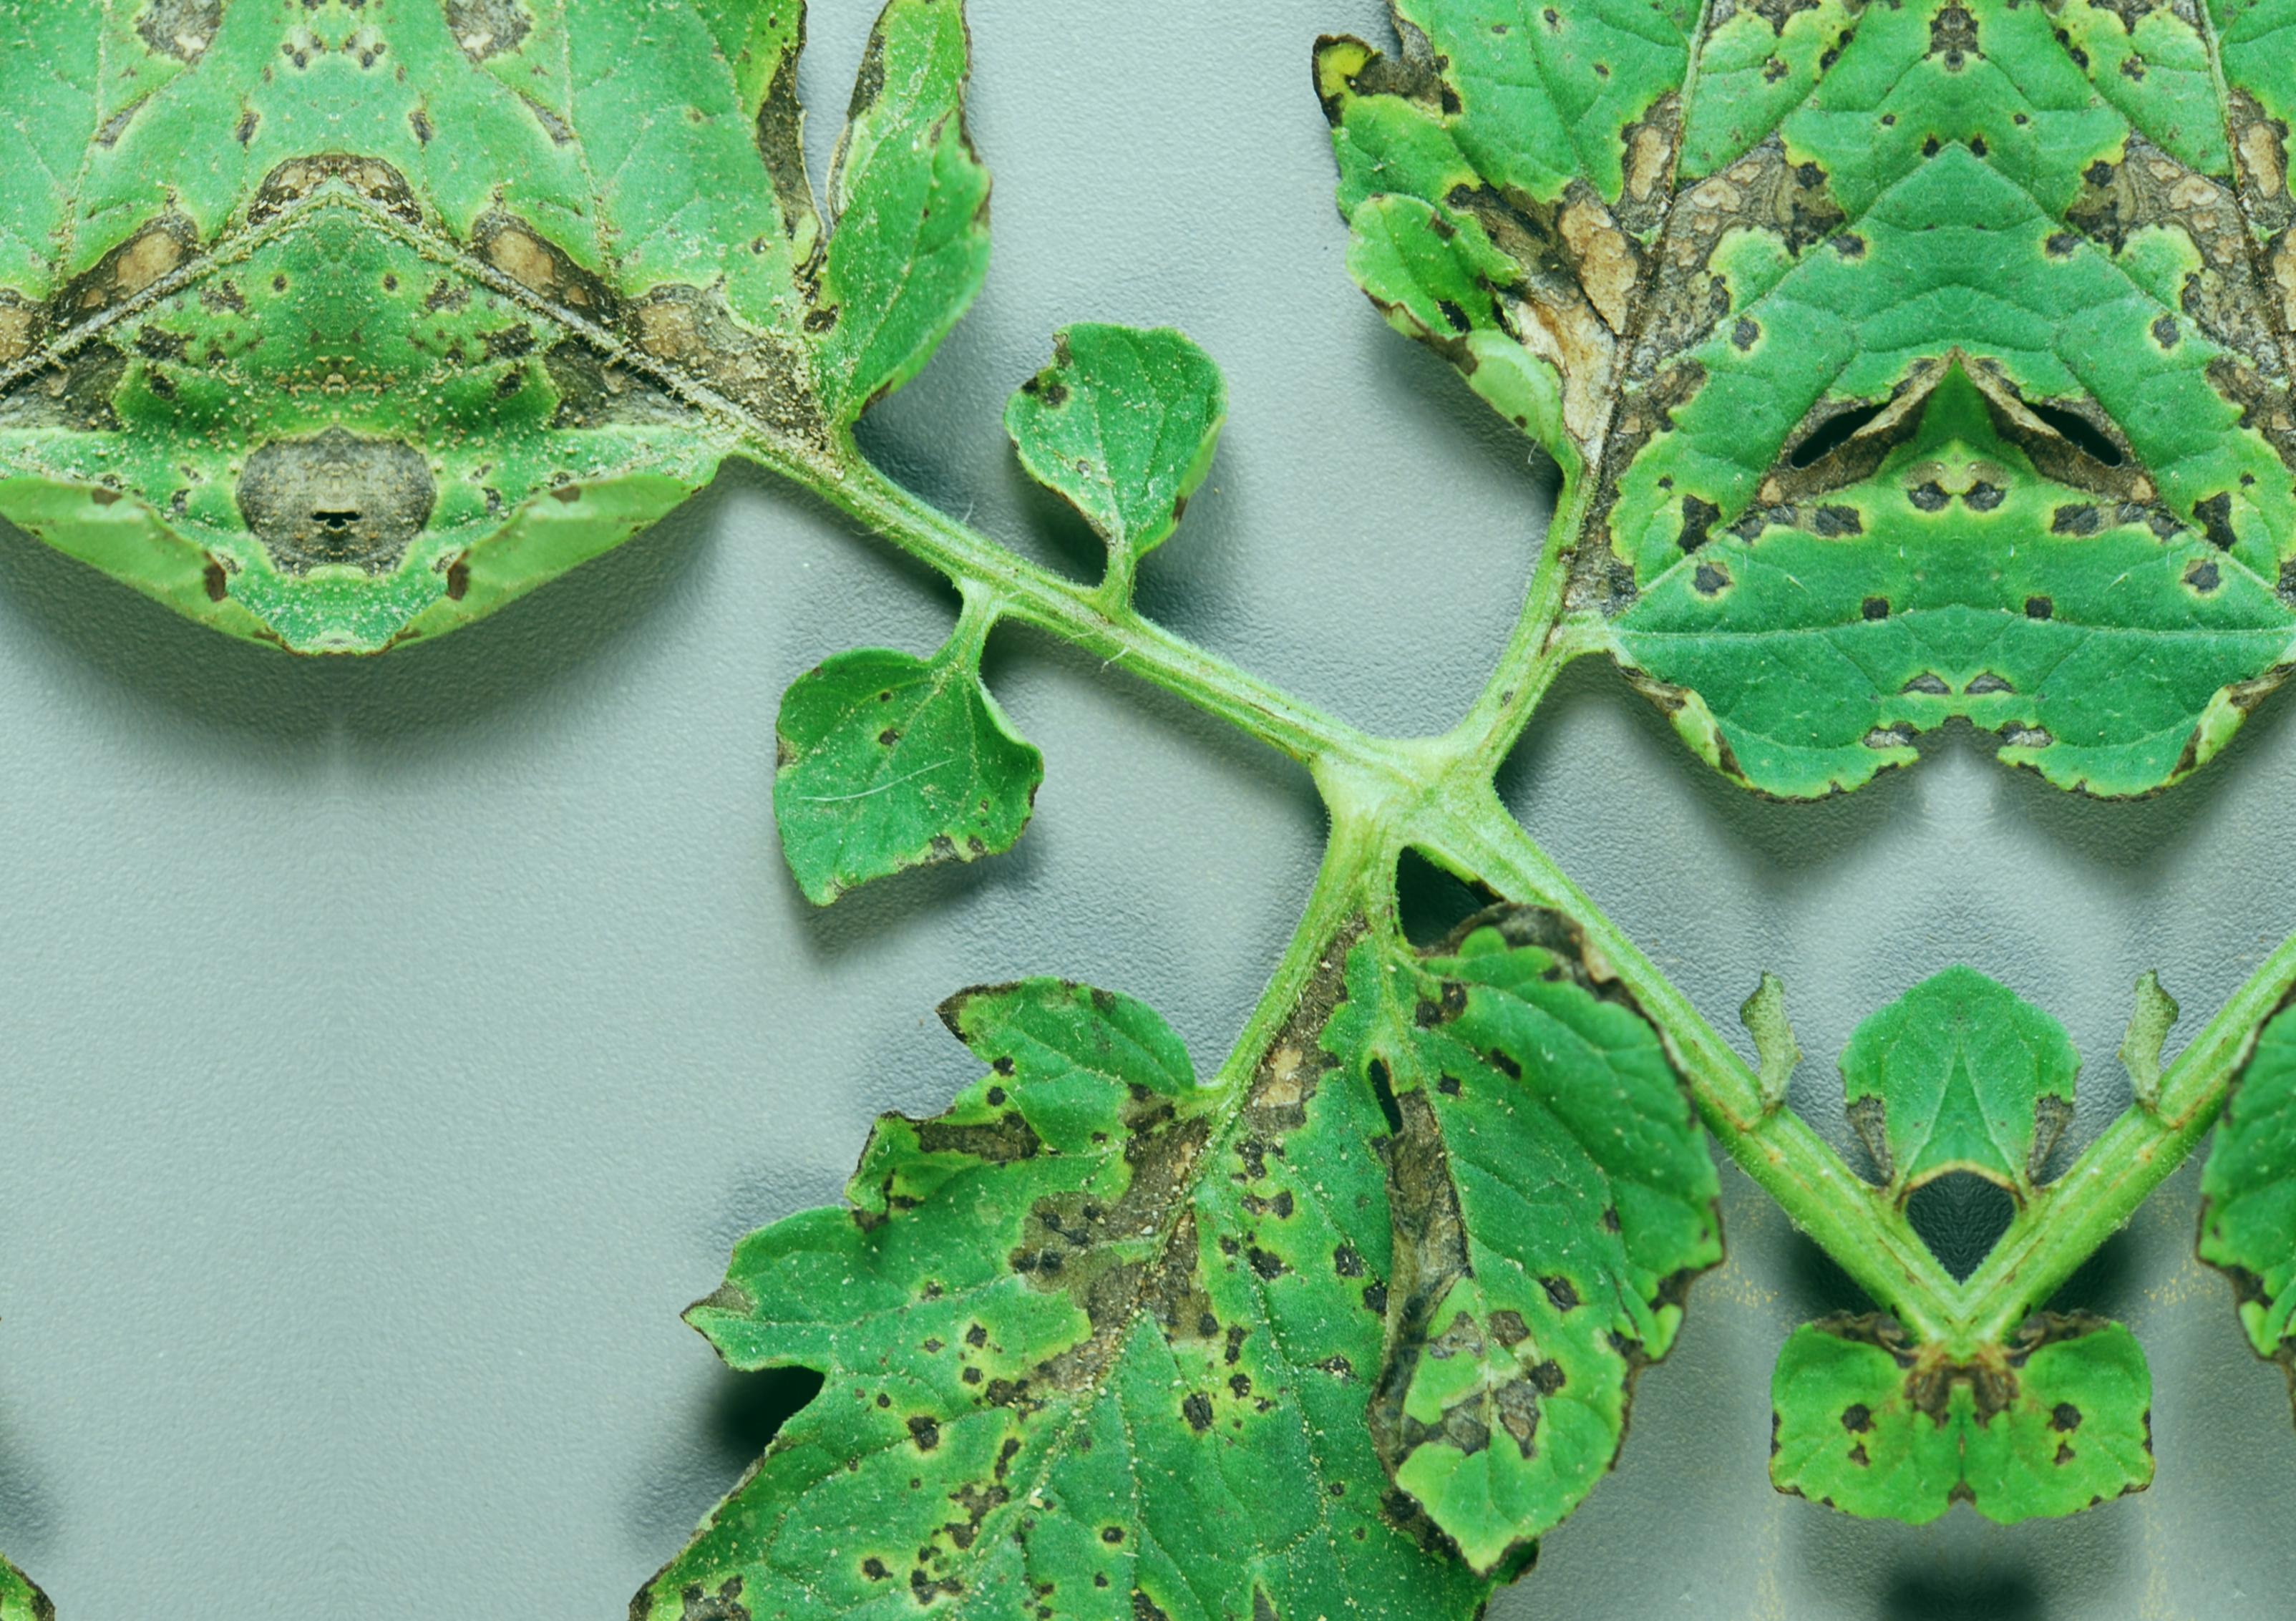Tomato Septoria leaf spot: (460, 891, 1514, 1621), (1266, 0, 1959, 846), (332, 0, 1175, 689), (1307, 886, 1729, 1616), (716, 596, 1038, 993)
